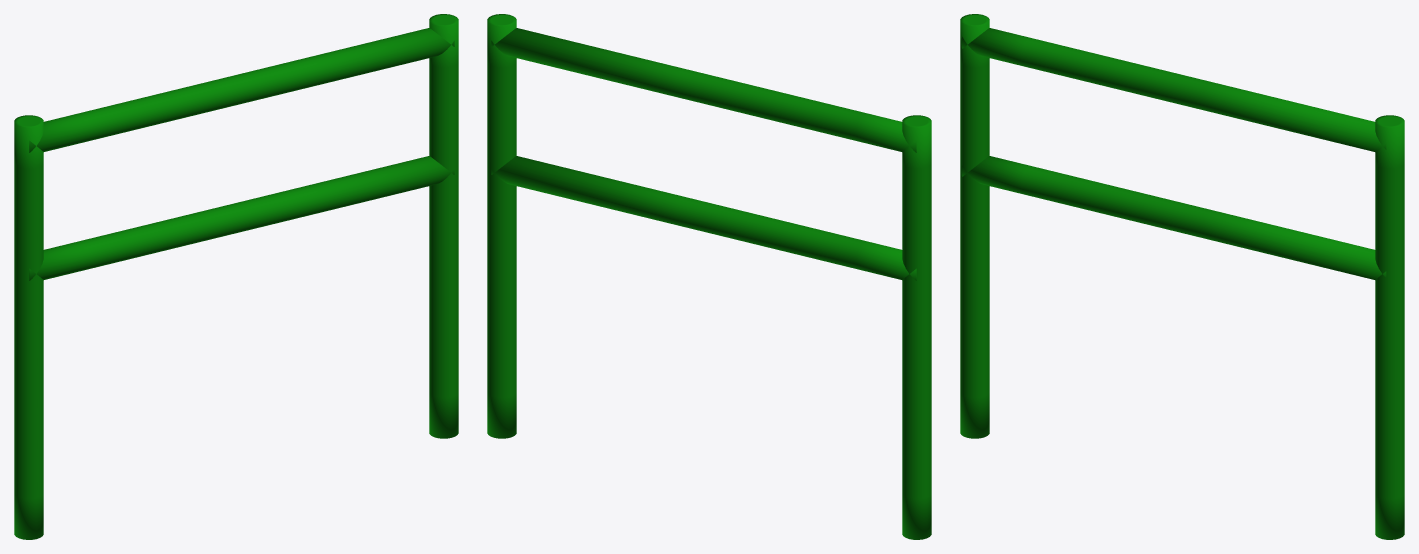
File: Railing.obj
3 renders of one model, left to right at view 1: azimuth 30°, elevation 25°; view 2: azimuth 150°, elevation 25°; view 3: azimuth 330°, elevation 25°, orthographic.
Visible parts, largest first — view 1: Cylinder004, Cylinder003, Cylinder001, Cylinder002; view 2: Cylinder004, Cylinder003, Cylinder001, Cylinder002; view 3: Cylinder002, Cylinder004, Cylinder003, Cylinder001.
Part boxes in pixels (<box>): Cylinder004: <box>29,156,454,280</box>; Cylinder003: <box>29,28,454,152</box>; Cylinder001: <box>14,115,43,539</box>; Cylinder002: <box>429,14,458,438</box>; Cylinder004: <box>491,156,916,280</box>; Cylinder003: <box>491,28,916,152</box>; Cylinder001: <box>902,115,931,539</box>; Cylinder002: <box>487,14,516,438</box>; Cylinder002: <box>1375,115,1404,539</box>; Cylinder004: <box>961,156,1386,279</box>; Cylinder003: <box>961,28,1386,151</box>; Cylinder001: <box>960,14,989,438</box>.
Size of the model in its own units: 89.48 by 80 by 5.22.
